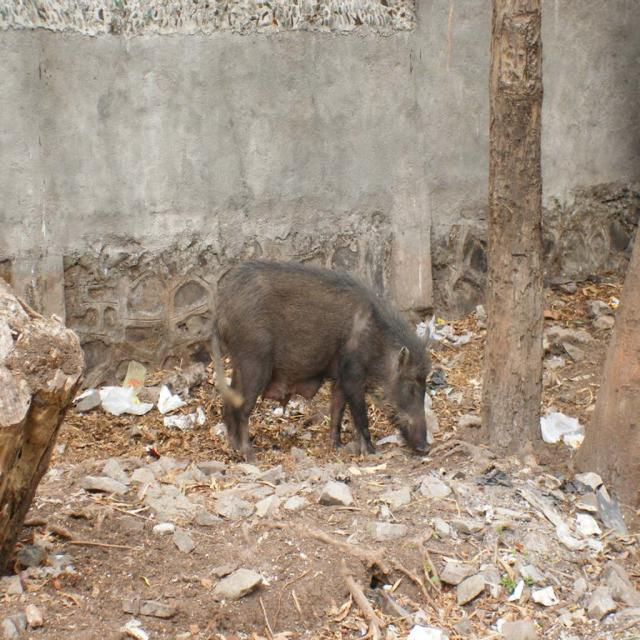Pig: (206, 254, 431, 464)
